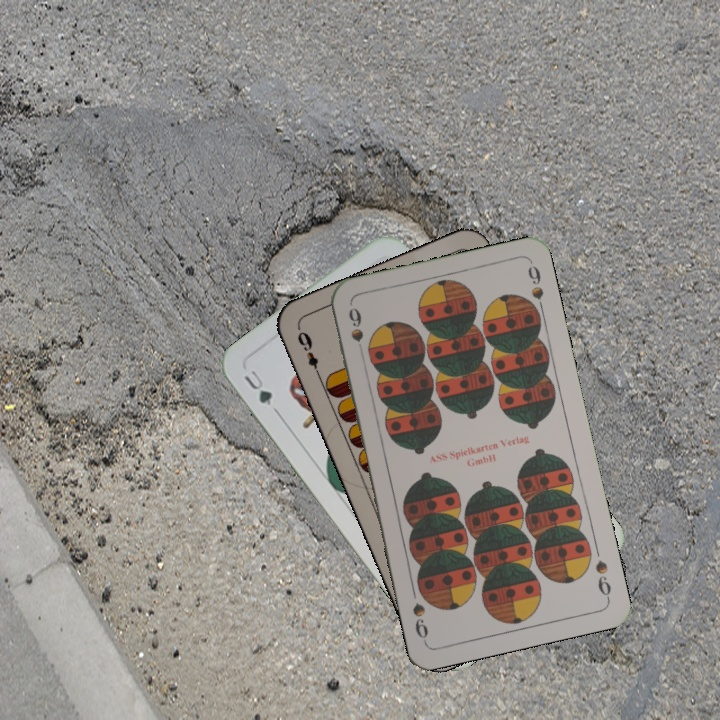E9: (293, 324, 324, 381)
GU: (239, 364, 275, 409)
S9: (344, 303, 368, 361), (591, 556, 614, 602)
